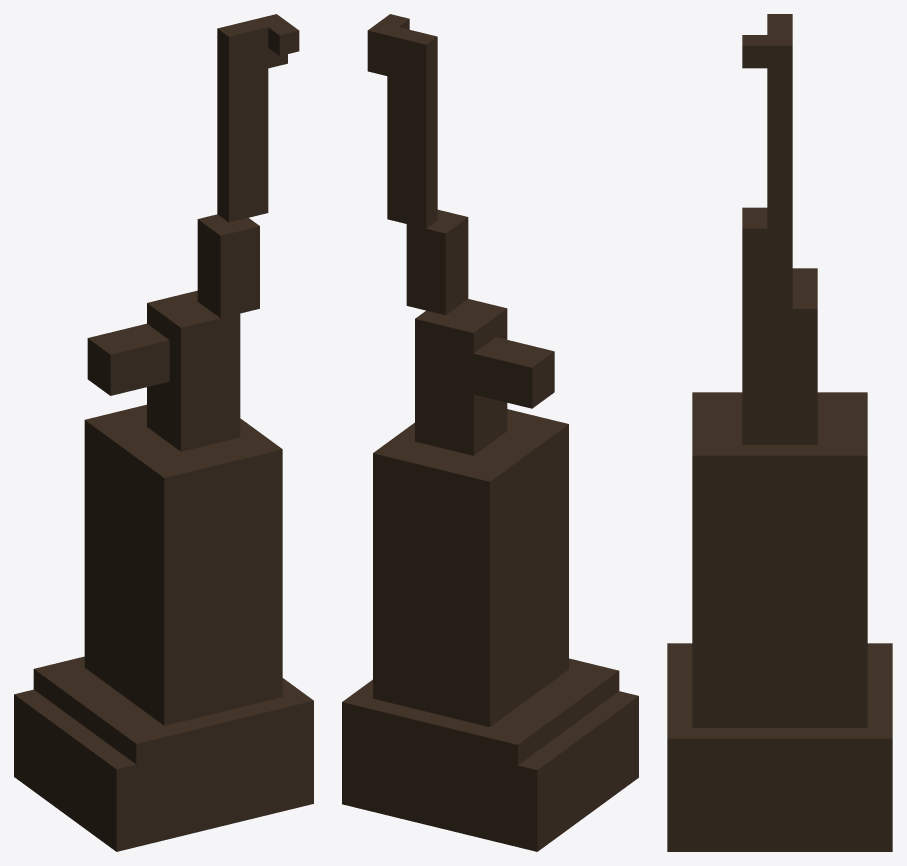
File: shuzhi.obj
The picture shows the model from 3 angles, left to right: view 1: azimuth 30°, elevation 25°; view 2: azimuth 150°, elevation 25°; view 3: azimuth 270°, elevation 25°; orthographic projection. The views are drawn at different scales.
Size of the model in its own units: 11 by 36 by 9.
Materials: 1 (1 with a texture image).
